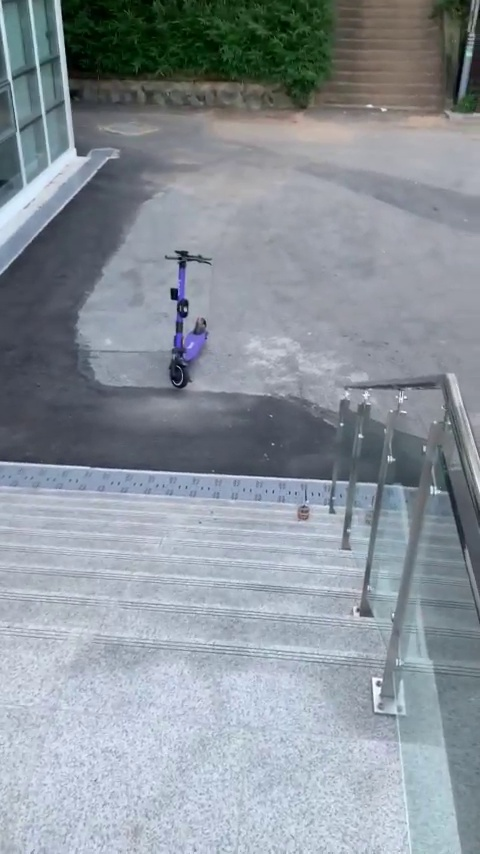beam: (155, 246, 215, 397)
